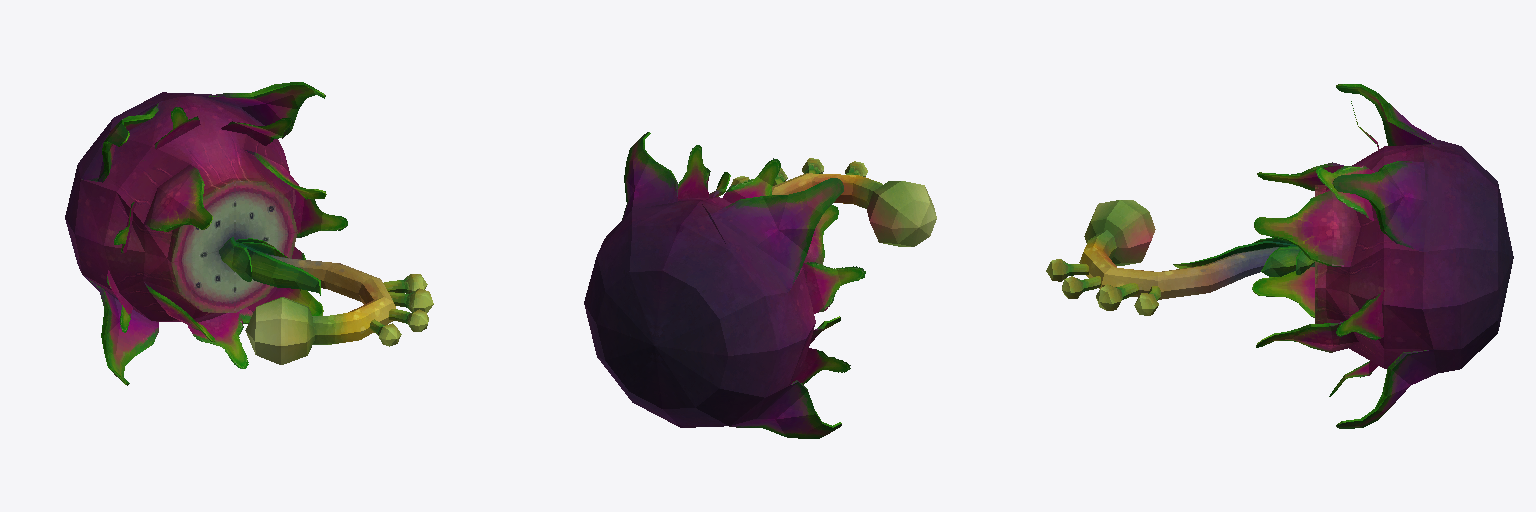
3 renders of one model, left to right at view 1: azimuth 30°, elevation 25°; view 2: azimuth 150°, elevation 25°; view 3: azimuth 270°, elevation 25°, orthographic.
Parts seen in each view (by area): view 1: zhanchang_fuben_376_shuiguo_02; view 2: zhanchang_fuben_376_shuiguo_02; view 3: zhanchang_fuben_376_shuiguo_02.
Boxes of the visible parts, x1=… form: zhanchang_fuben_376_shuiguo_02: x1=65, y1=82, x2=433, y2=385; zhanchang_fuben_376_shuiguo_02: x1=584, y1=132, x2=936, y2=438; zhanchang_fuben_376_shuiguo_02: x1=1046, y1=84, x2=1513, y2=428.
Size of the model in its own units: 220 by 235 by 367.
1 materials, 1 textured.